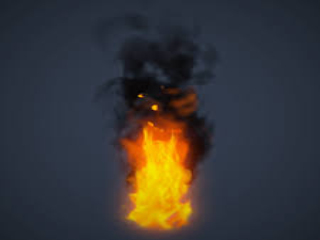fire: (126, 128, 204, 226)
smoke: (102, 28, 226, 124)
